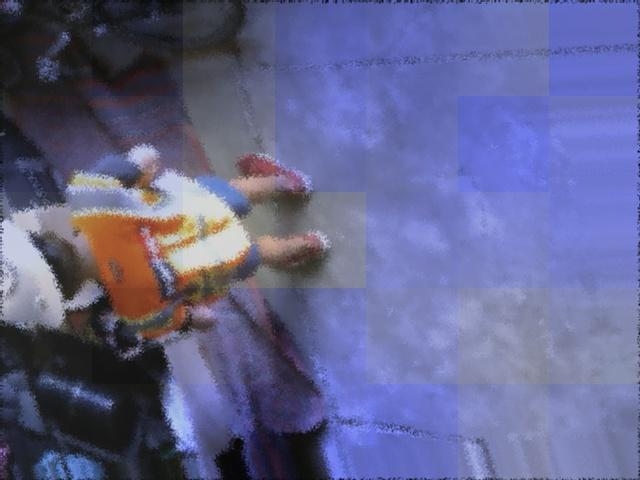one: (0, 252, 18, 296)
